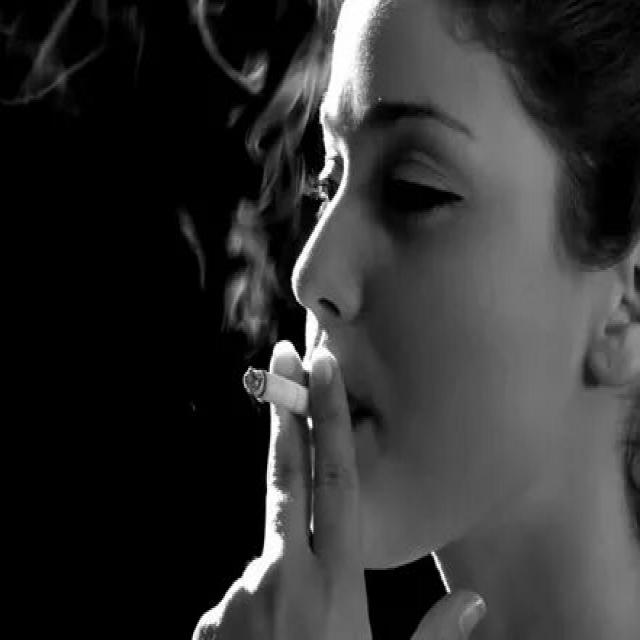smoke: (242, 362, 320, 430)
